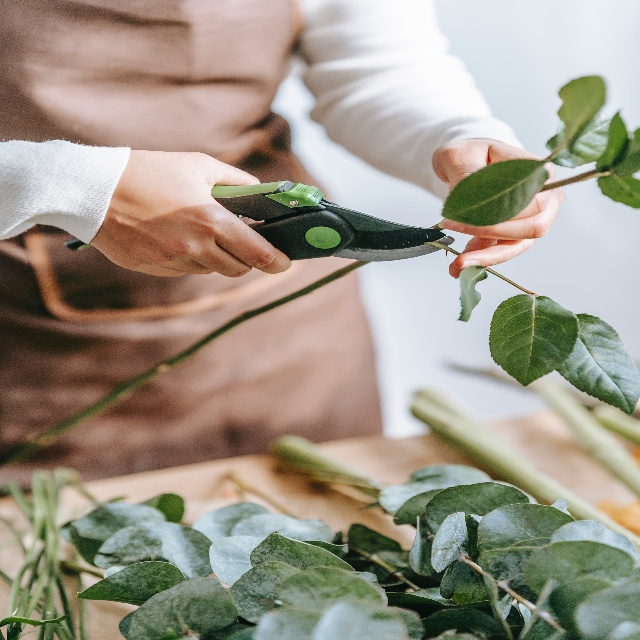Sin_guantes: (89, 141, 293, 279), (431, 135, 567, 280)
